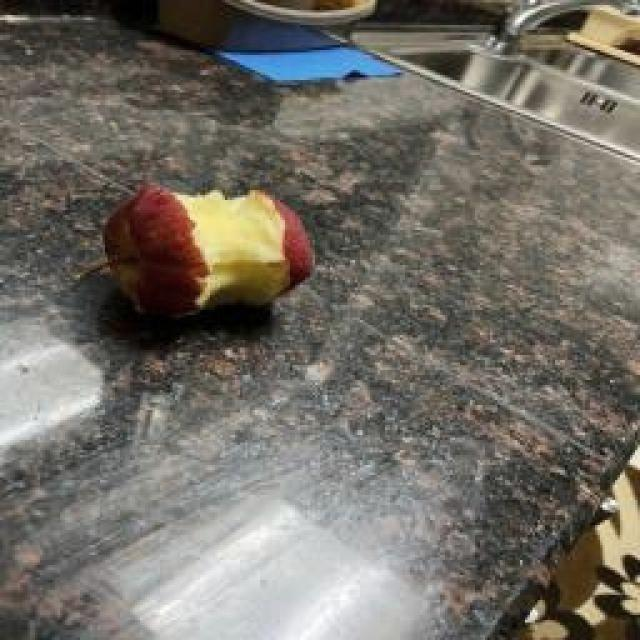Apple: (104, 185, 314, 316)
